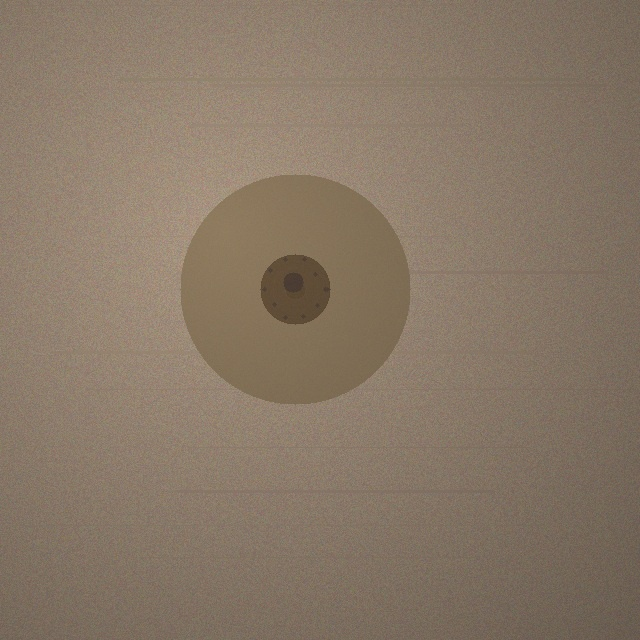cold_weld: (180, 174, 410, 404)
